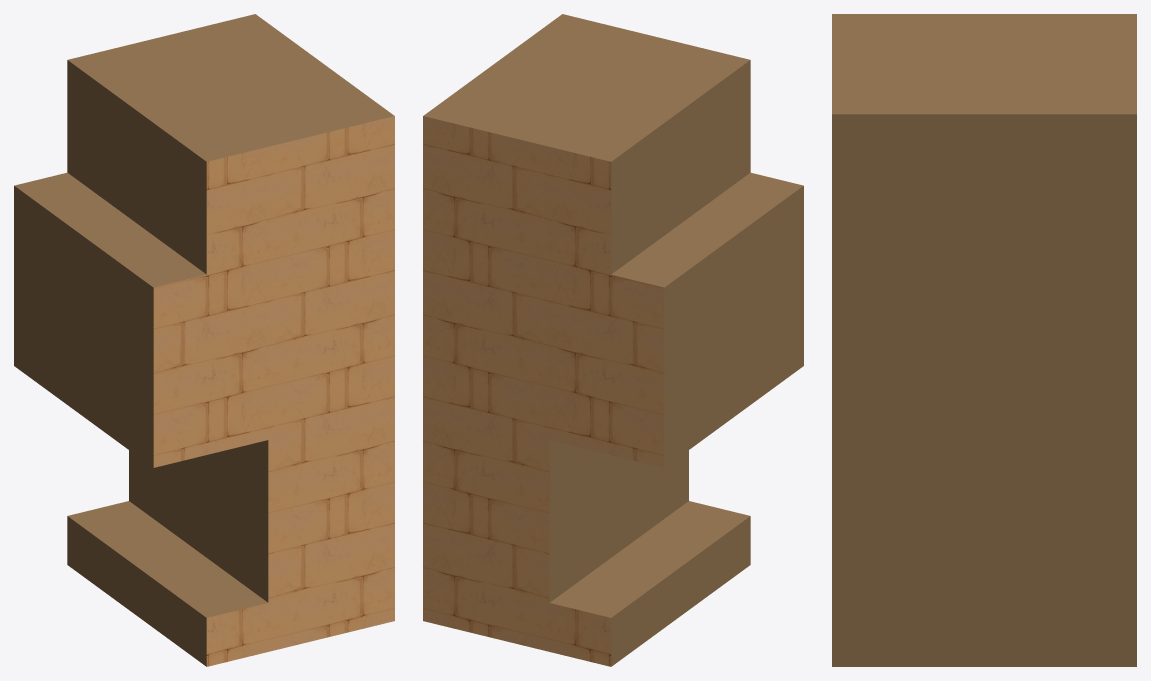
Rendered from Crumbled_Wall_1x2.fbx.
The picture shows the model from 3 angles, left to right: view 1: azimuth 30°, elevation 25°; view 2: azimuth 150°, elevation 25°; view 3: azimuth 270°, elevation 25°; orthographic projection. The views are drawn at different scales.
Visible parts, largest first — view 1: Crumbled_Wall_1x2; view 2: Crumbled_Wall_1x2; view 3: Crumbled_Wall_1x2.
Boxes of the visible parts, x1,y1,x2,y2 form: Crumbled_Wall_1x2: (14, 14, 394, 666); Crumbled_Wall_1x2: (423, 14, 803, 666); Crumbled_Wall_1x2: (832, 14, 1136, 666).
Bounding box in the file's own units: 100 × 200 × 100.
